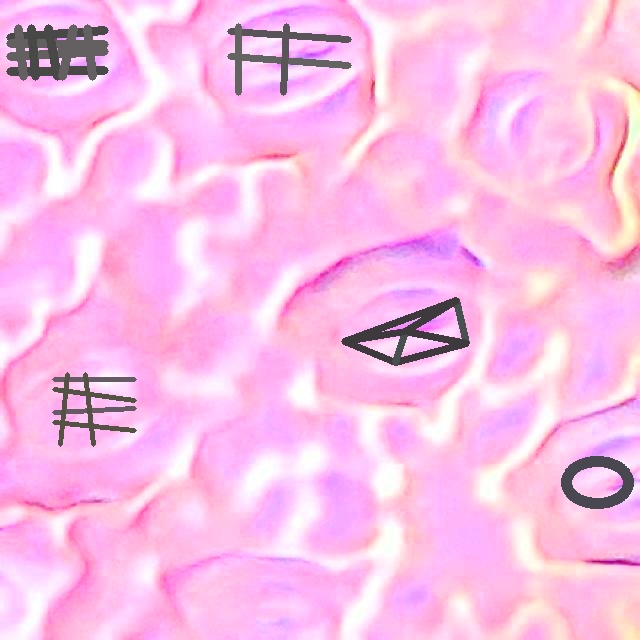open: (227, 23, 351, 95), (342, 297, 468, 365), (53, 373, 136, 445), (7, 25, 108, 79), (561, 456, 633, 508)
